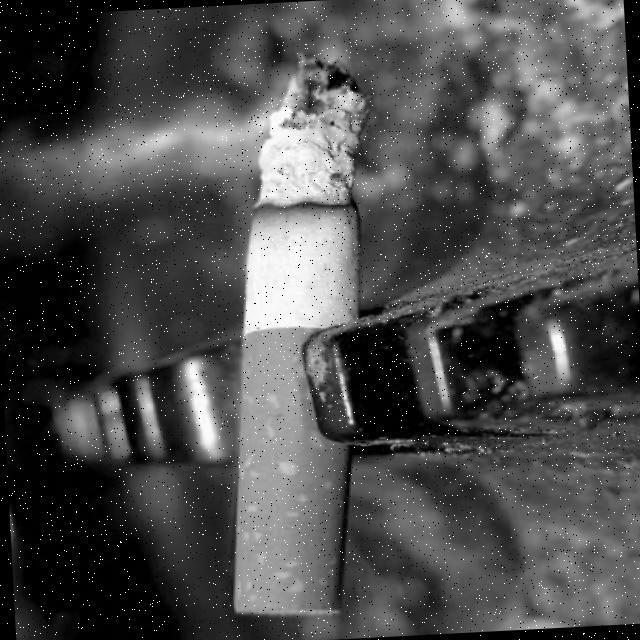cigarette: (200, 61, 408, 618)
